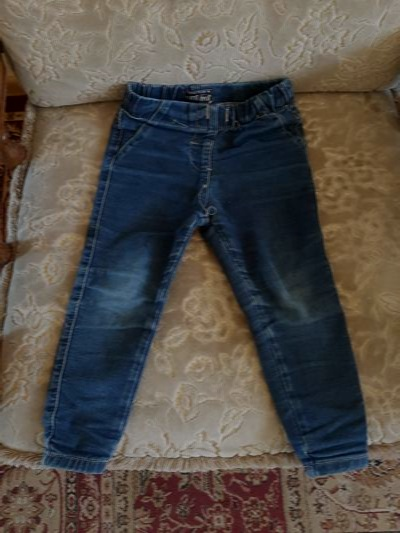Pants: (39, 55, 350, 483)
